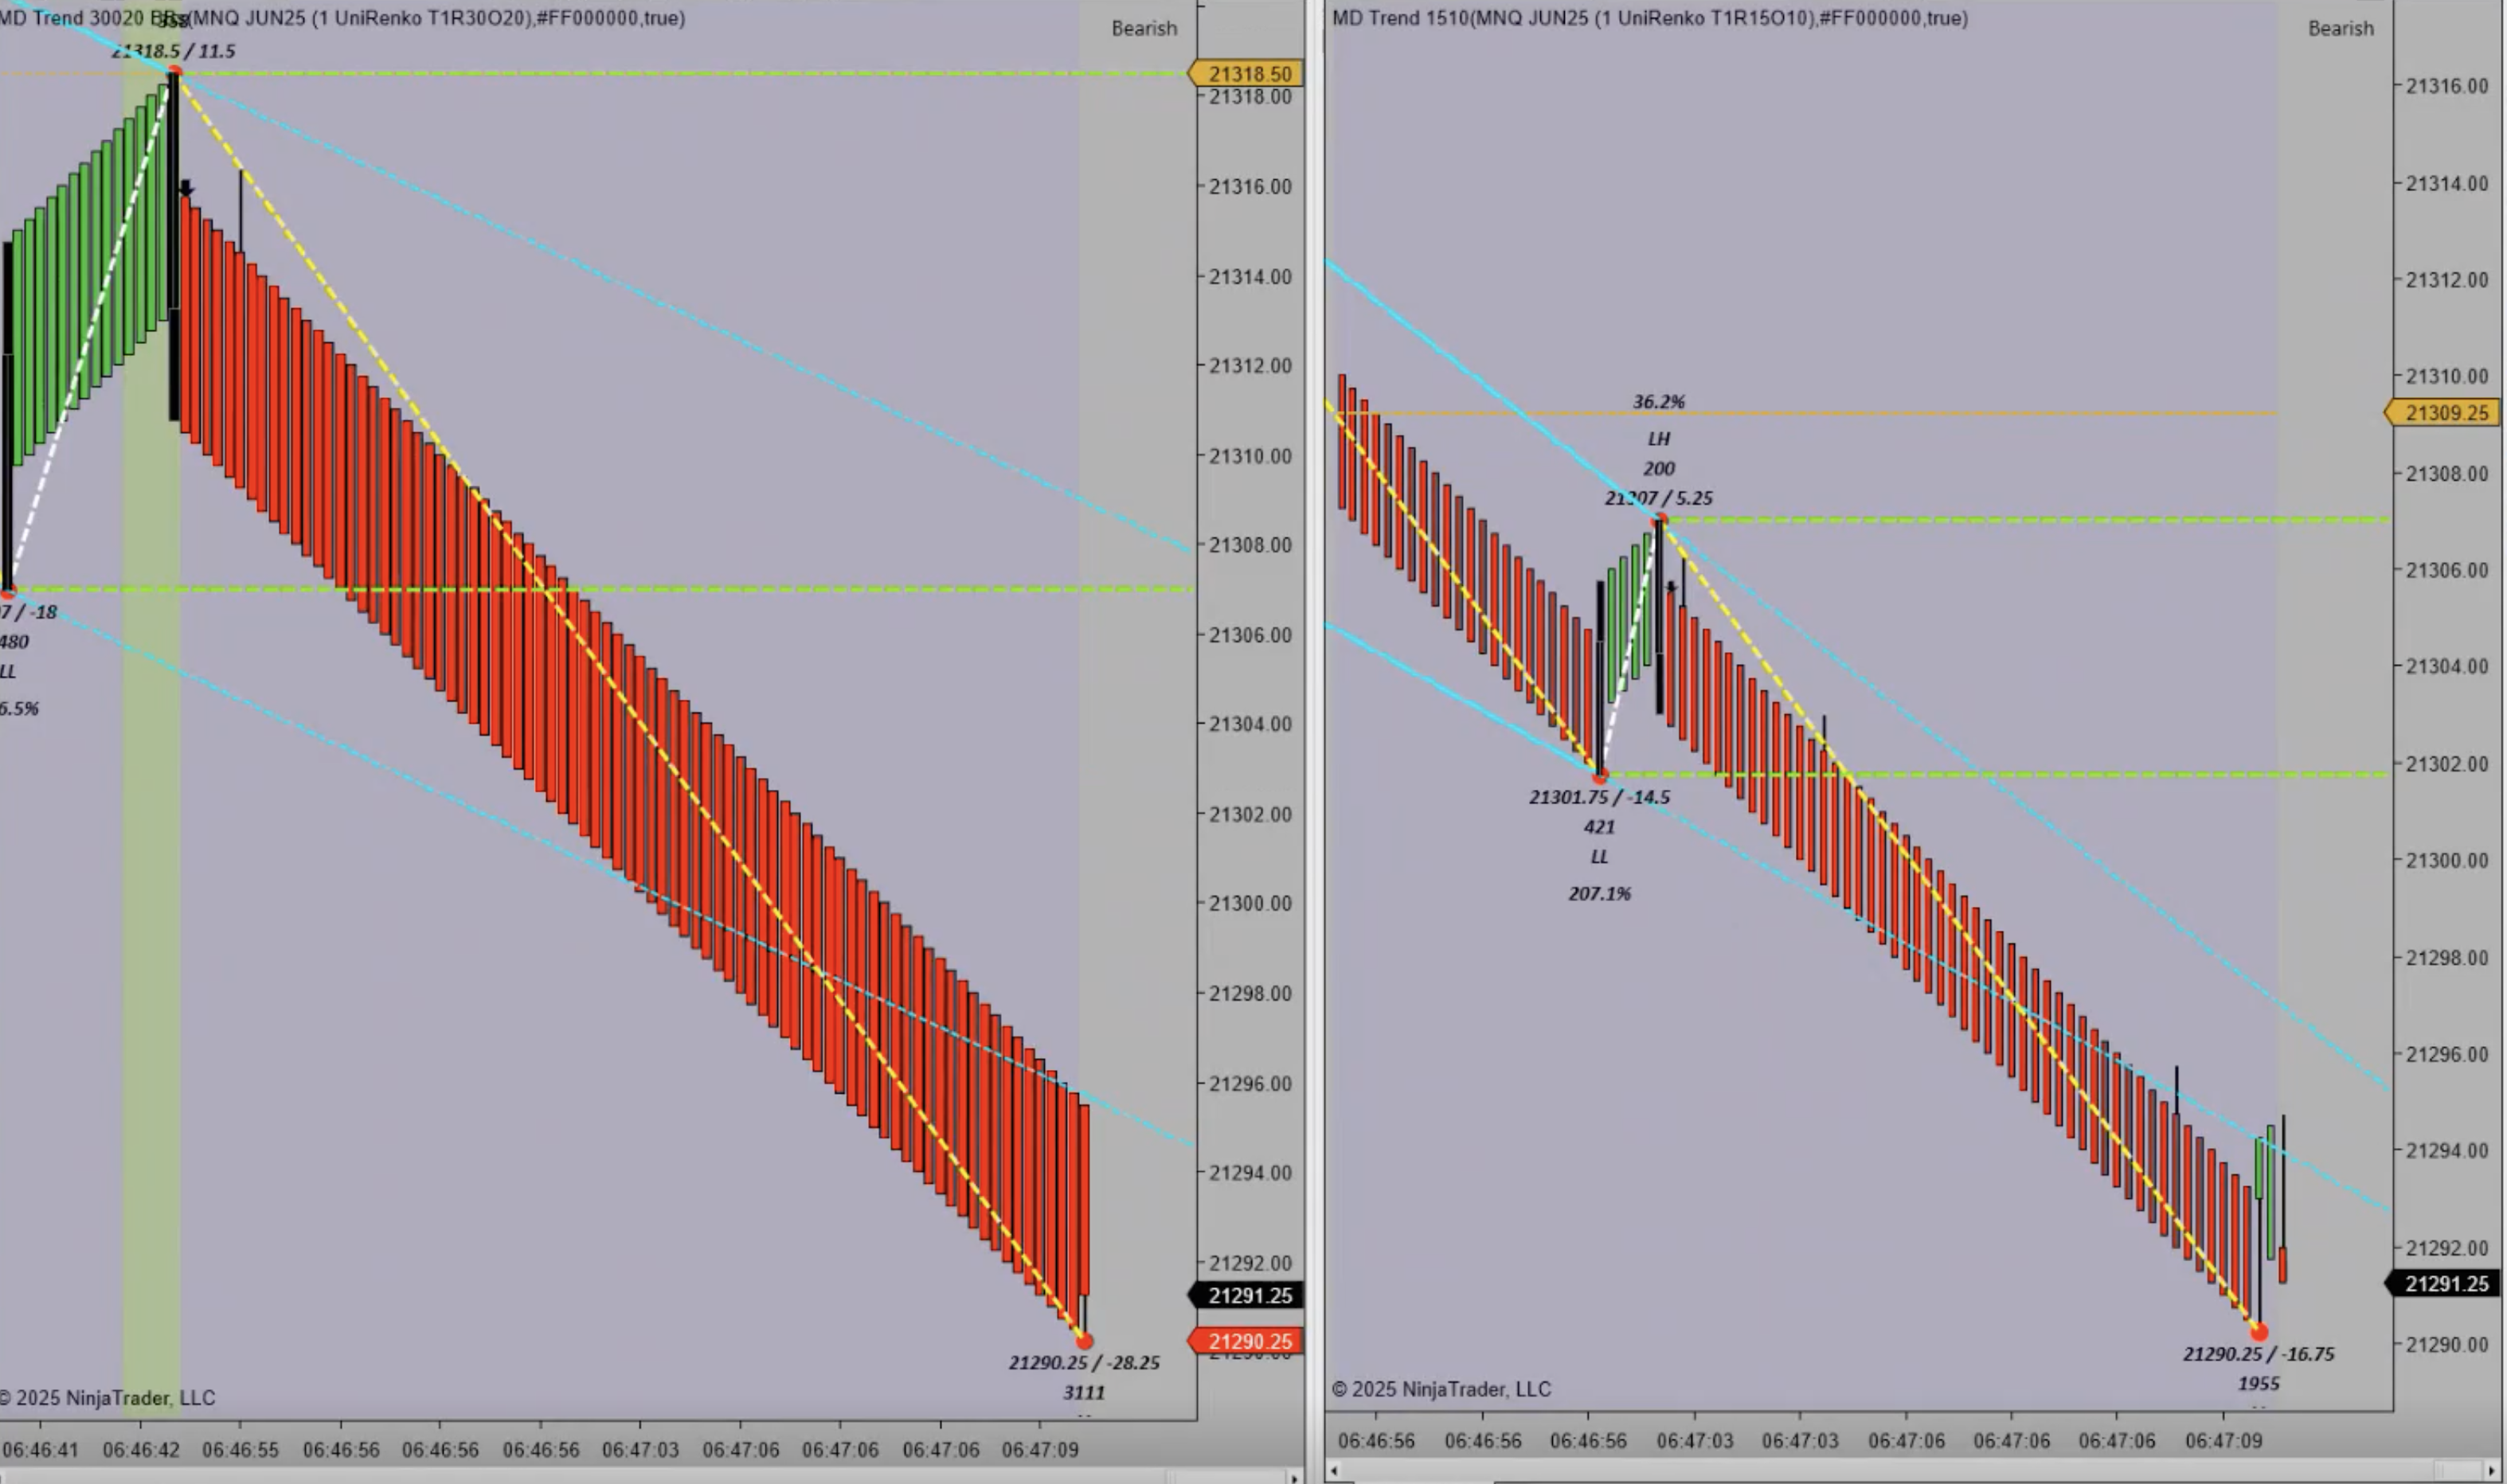candle: (0, 237, 16, 601), (170, 69, 184, 431), (1654, 516, 1675, 723), (1594, 581, 1611, 777)
